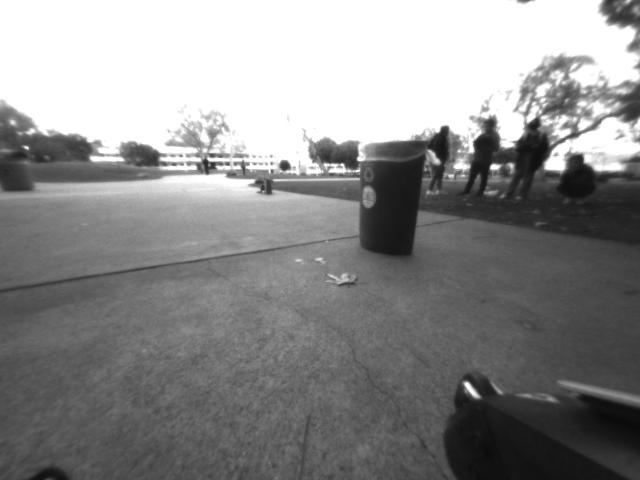trashcan_open: (349, 137, 434, 260)
